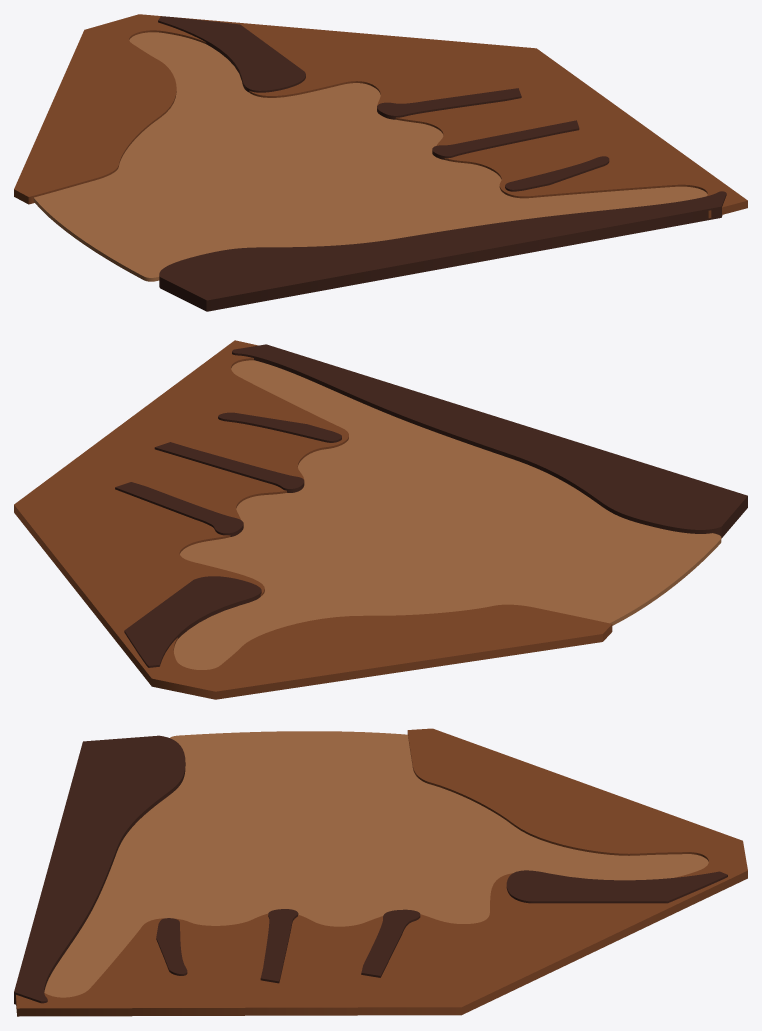
The model's file is emoji_u1f919_1f3fe.glb.
3 renders of one model, top to bottom at view 1: azimuth 30°, elevation 25°; view 2: azimuth 150°, elevation 25°; view 3: azimuth 270°, elevation 25°, orthographic. The views are drawn at different scales.
Parts seen in each view (by area): view 1: emoji_u1f919_1f3fe; view 2: emoji_u1f919_1f3fe; view 3: emoji_u1f919_1f3fe.
Boxes of the visible parts, x1,y1,x2,y2 form: emoji_u1f919_1f3fe: (14, 14, 747, 311); emoji_u1f919_1f3fe: (14, 340, 747, 699); emoji_u1f919_1f3fe: (14, 728, 747, 1016).
Size of the model in its own units: 0.03 by 0.0006 by 0.0333.
